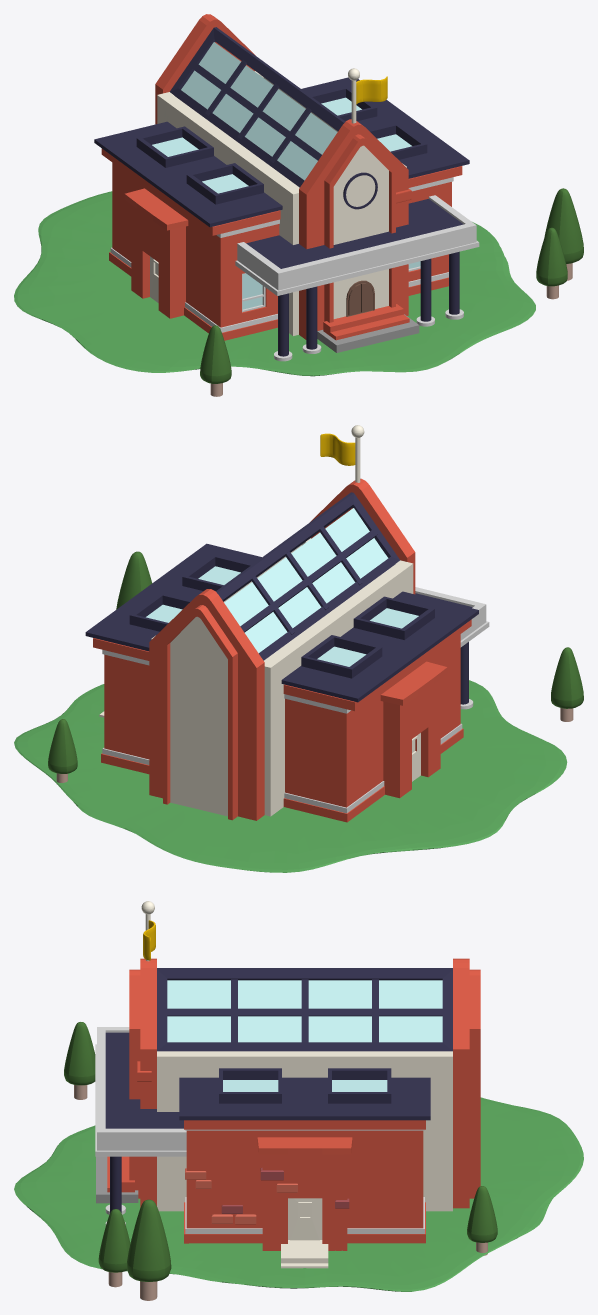
File: School.fbx
3 views of the same model, one above another, from view 1: azimuth 30°, elevation 25°; view 2: azimuth 150°, elevation 25°; view 3: azimuth 270°, elevation 25° (orthographic). The views are drawn at different scales.
Parts seen in each view (by area): view 1: Cylinder.003, Cube.007, Cube.009, Cube.003, Cube.002, Cube.006, Cube.008, Cube.001, Cube.004, Cylinder.001, Cube.018, Cube.029 (+8 smaller); view 2: Cube.007, Cylinder.003, Cube.003, Cube.002, Cube.006, Cube.001, Cube.008, Cube.004, Cube.018, Cube.031, Cube.032, Cube.009 (+2 smaller); view 3: Cylinder.003, Cube.007, Cube.006, Cube.001, Cube.008, Cube.004, Cube.002, Cube.009, Cube.003, Cube.018, Cube.029, Cube.031 (+5 smaller).
Part boxes in pixels (x1,y1,x2,y2): Cylinder.003: (14, 191, 535, 376); Cube.007: (94, 77, 469, 340); Cube.009: (235, 195, 479, 295); Cube.003: (324, 134, 395, 322); Cube.002: (155, 14, 408, 339); Cube.006: (181, 42, 337, 180); Cube.008: (124, 188, 188, 318); Cube.001: (157, 71, 406, 335); Cube.004: (170, 27, 345, 187); Cylinder.001: (278, 251, 459, 356); Cube.018: (191, 60, 321, 162); Cube.029: (544, 188, 583, 263); Cube.007: (85, 543, 478, 822); Cylinder.003: (14, 680, 567, 872); Cube.003: (163, 605, 237, 820); Cube.002: (149, 478, 415, 820); Cube.006: (224, 508, 388, 653); Cube.001: (151, 538, 413, 816); Cube.008: (380, 661, 447, 798); Cube.004: (216, 492, 400, 660); Cube.018: (240, 526, 377, 634); Cube.031: (551, 647, 583, 708); Cube.032: (48, 719, 77, 773); Cube.009: (415, 587, 489, 647); Cylinder.003: (14, 1097, 583, 1291); Cube.007: (179, 1068, 430, 1243); Cube.006: (167, 980, 442, 1042); Cube.001: (157, 1051, 452, 1211); Cube.008: (257, 1137, 352, 1250); Cube.004: (157, 968, 452, 1051); Cube.002: (140, 958, 469, 1208); Cube.009: (95, 1027, 186, 1156); Cube.003: (129, 969, 480, 1198); Cube.018: (167, 979, 442, 1042); Cube.029: (126, 1199, 171, 1281); Cube.031: (64, 1022, 95, 1085).
Bounding box in the file's own units: 2732 × 1486 × 2695.
